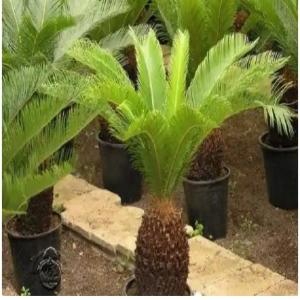palm tree: (1, 0, 137, 293)
